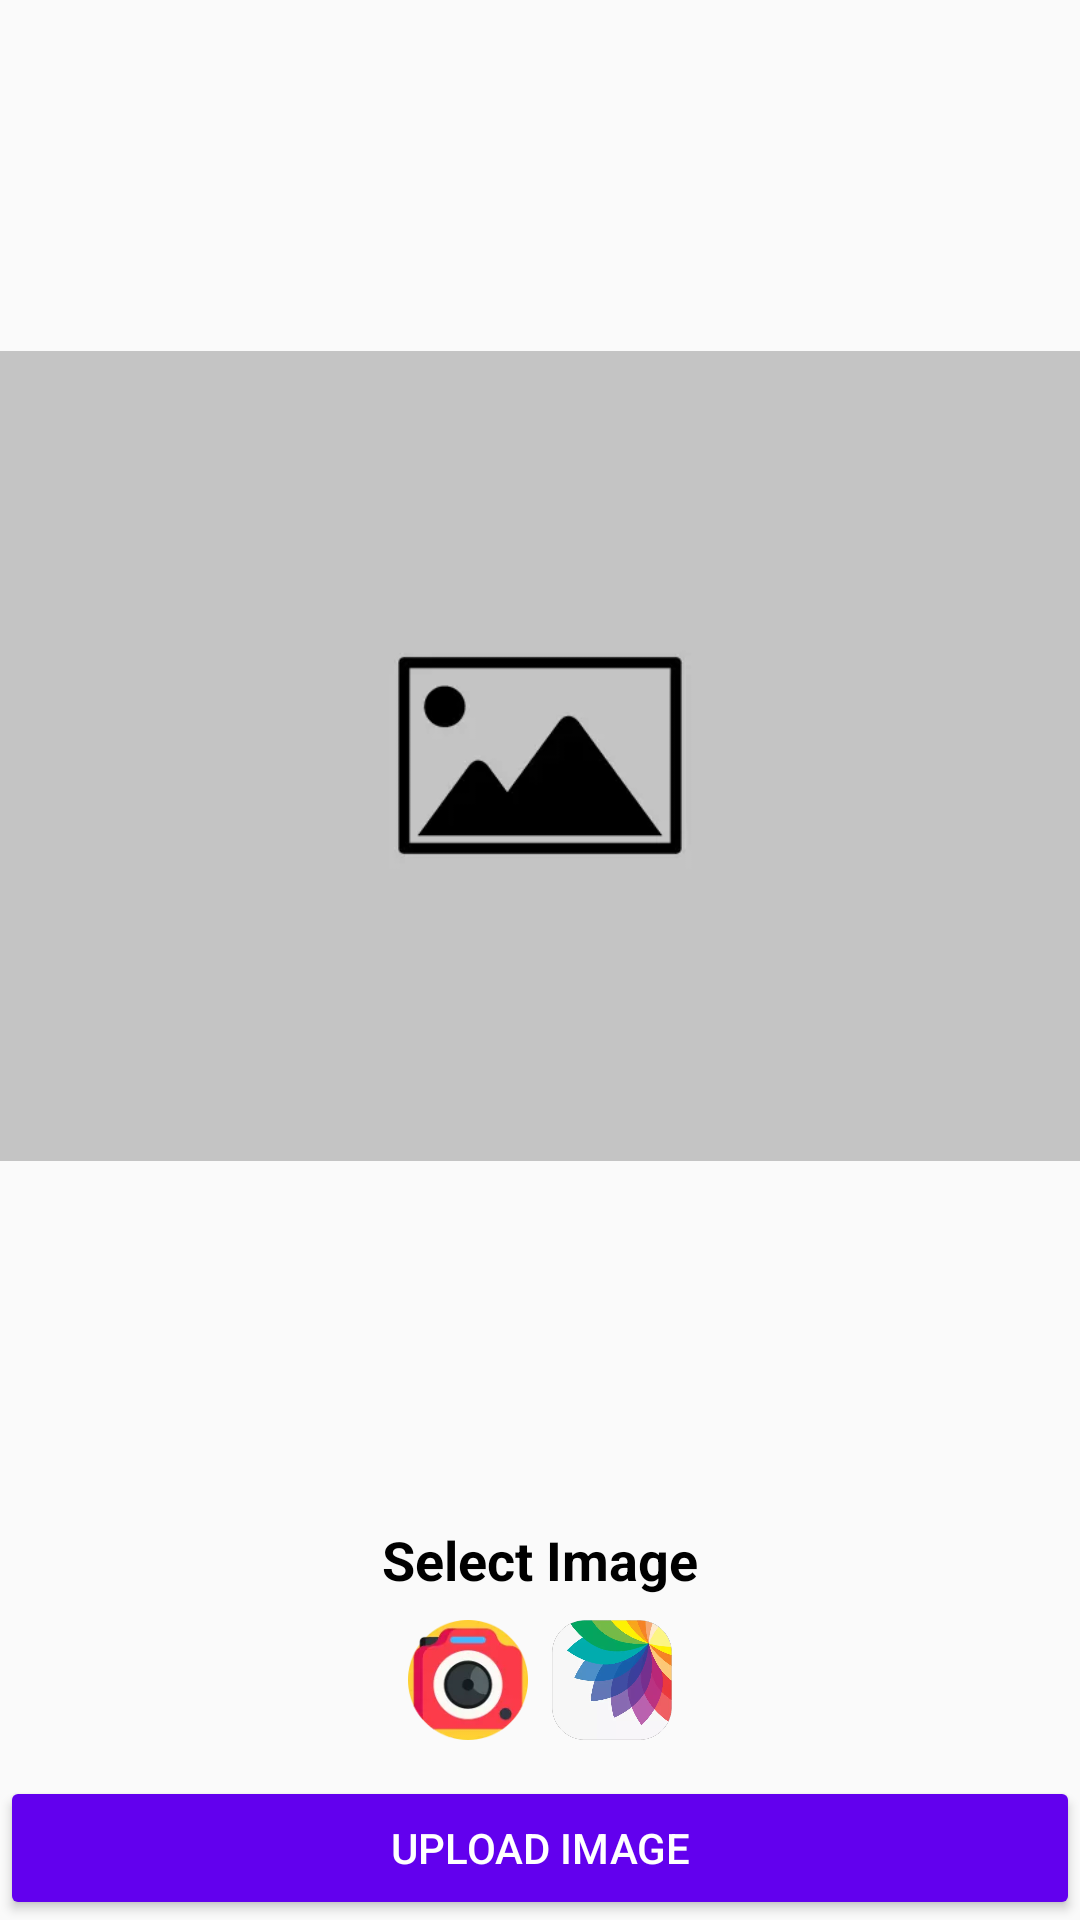

Locate icon controls on the screen. Image size 1080*1920, boxes as (x1, y1, x2, y2).
gallery: (552, 1620, 672, 1740)
photocamera: (408, 1620, 528, 1740)
